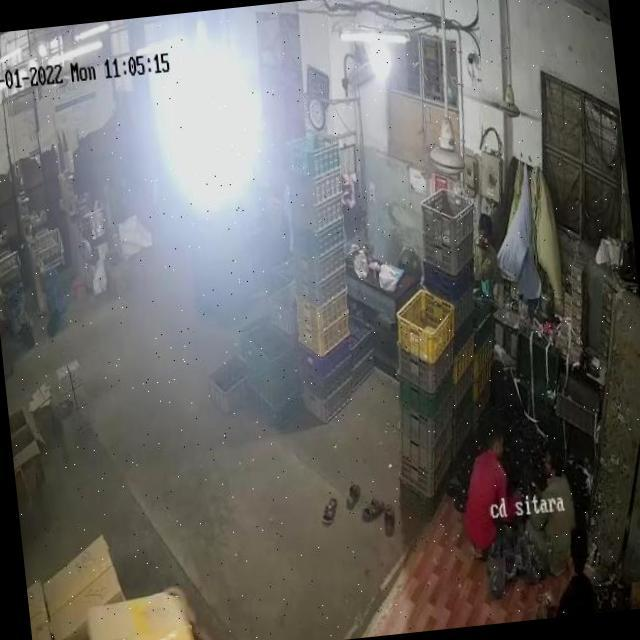person: (466, 440, 522, 540), (538, 453, 574, 548), (560, 526, 594, 616), (472, 212, 501, 288)
